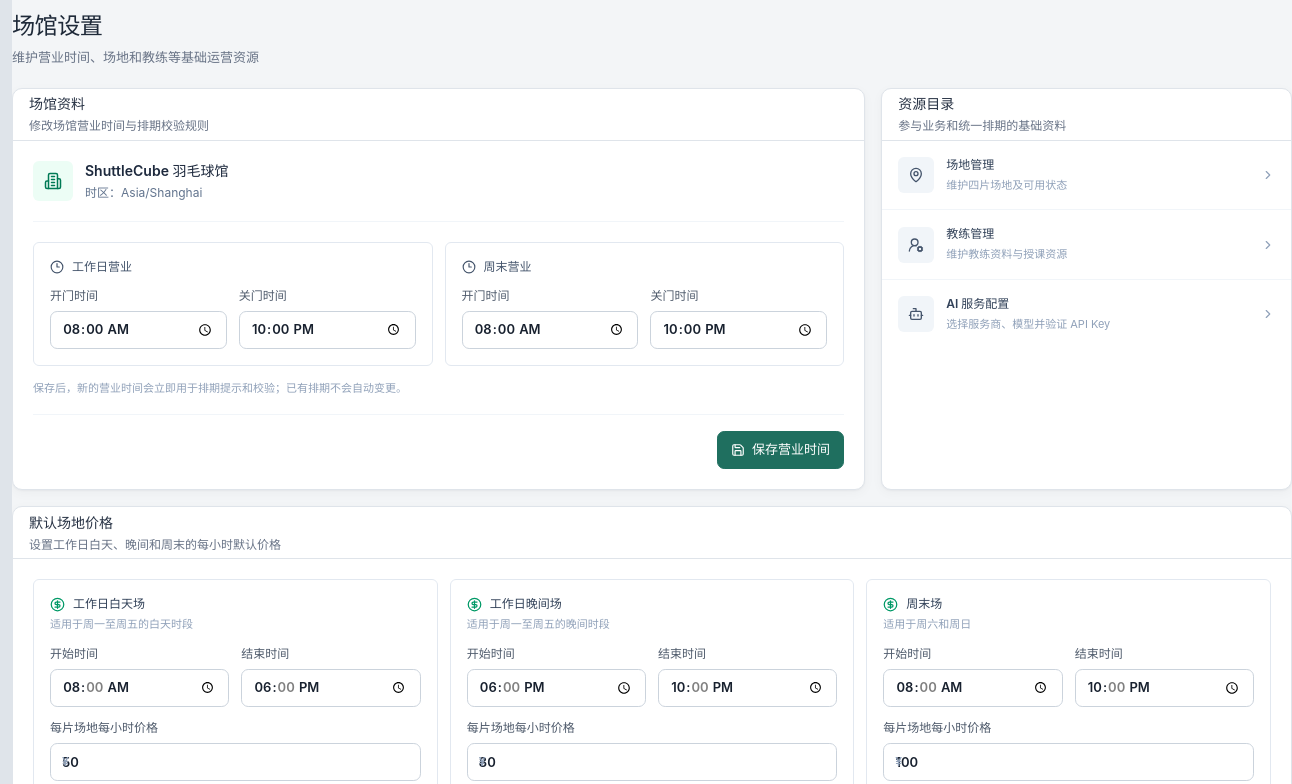
it: venue settings › edits and saves the three default court price periods
Expected: the number field showing "50" below "适用于周一至周五的白天时段" is shown, [50, 744, 421, 782]
Replace the text in the time field named "工作日白天场结束时间" with "19:00" at (331, 688), box [241, 669, 421, 707]
(page scrolled)
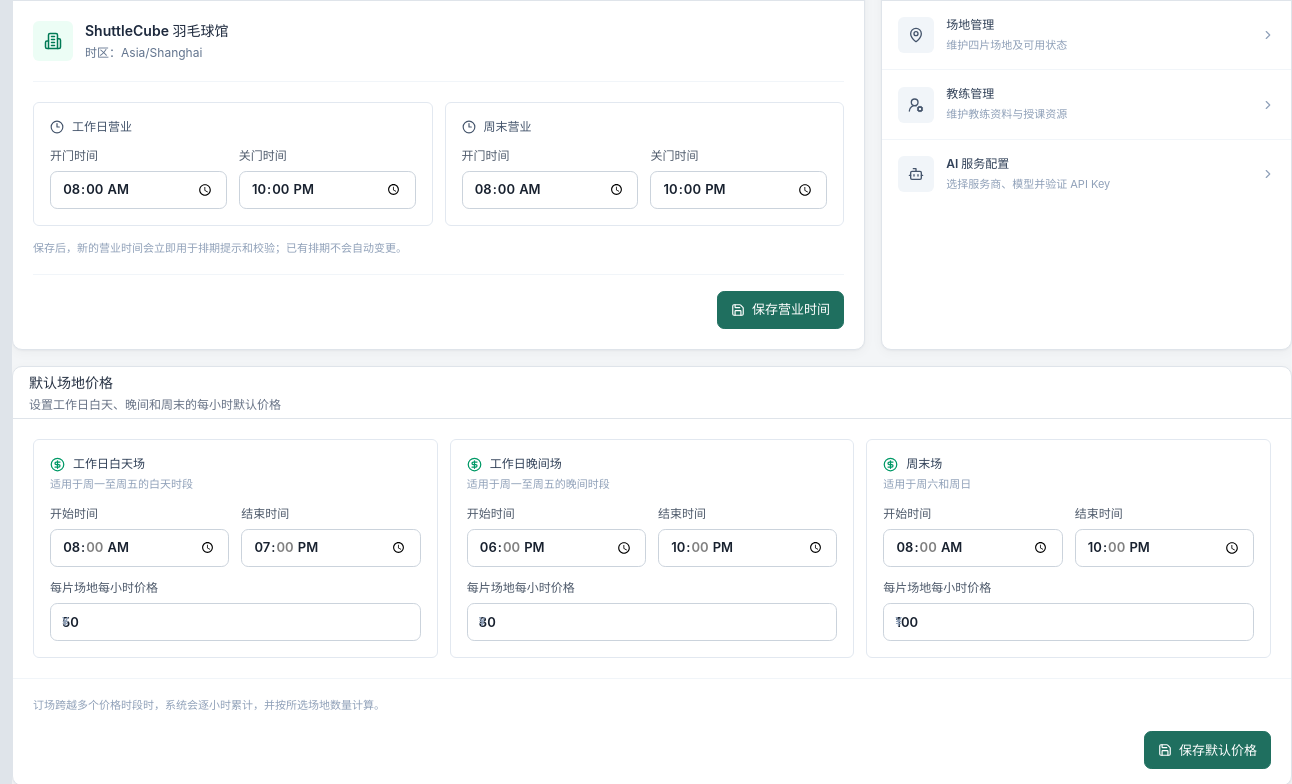
Click the button "保存默认价格".
click(1207, 750)  # box [1144, 732, 1271, 770]
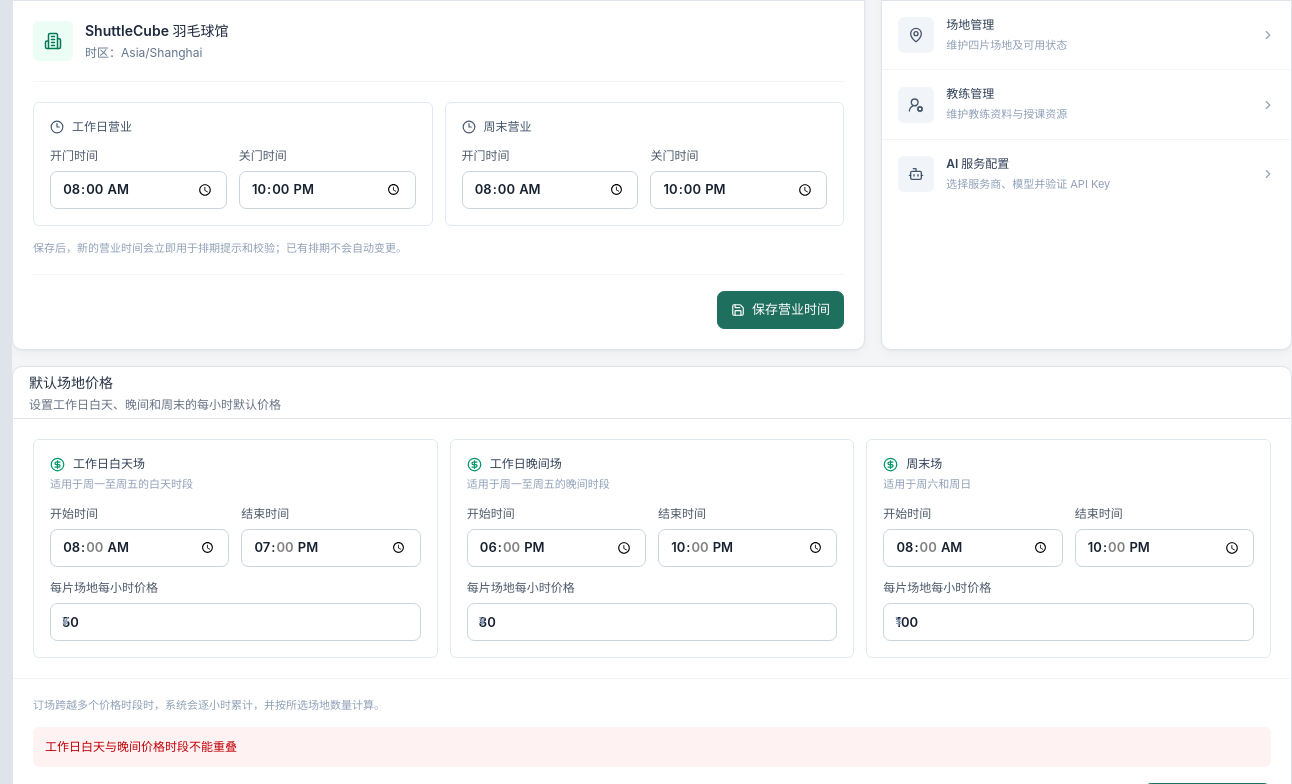
Now the message reads "工作日白天与晚间价格时段不能重叠", box [45, 740, 237, 754]
Replace the text in the time field named "工作日白天场结束时间" with "18:00" at (331, 548), box [241, 529, 421, 567]
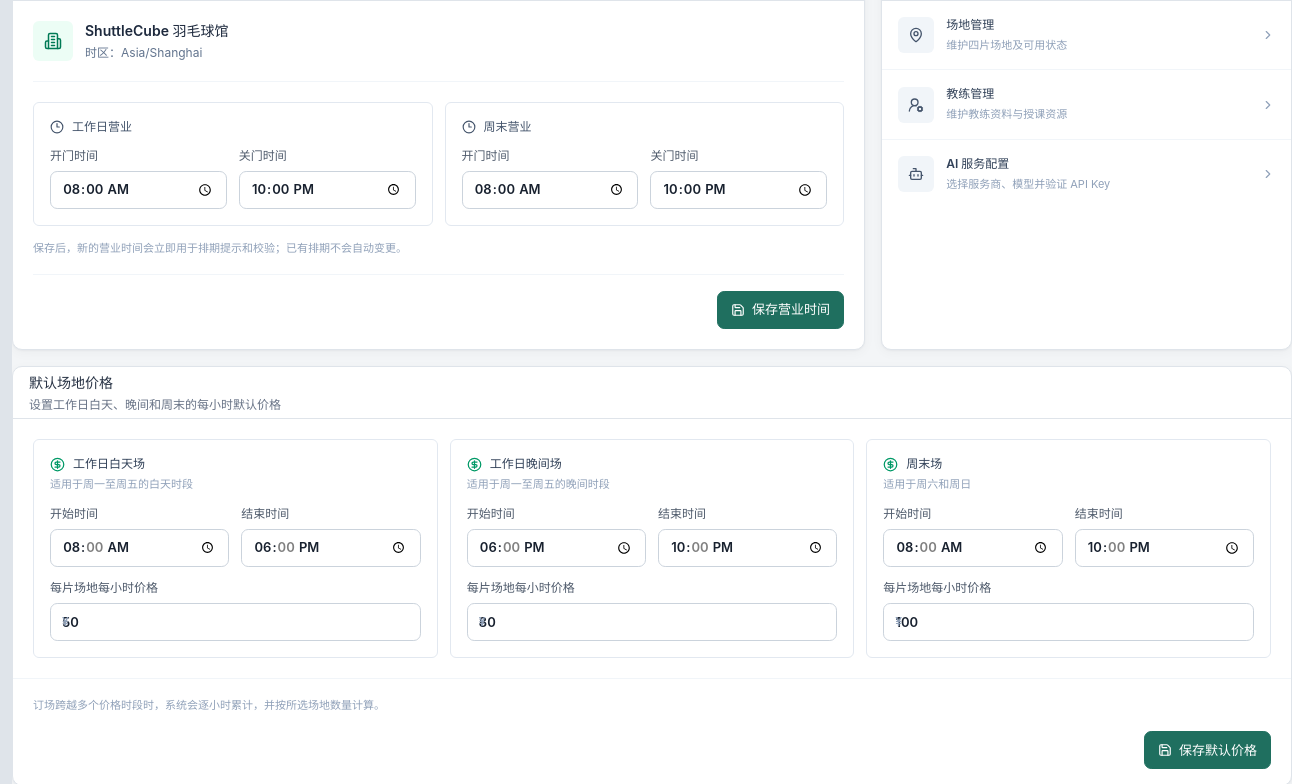
Replace the text in the number field named "工作日晚间场每小时价格" with "90" at (652, 622), box [467, 604, 837, 642]
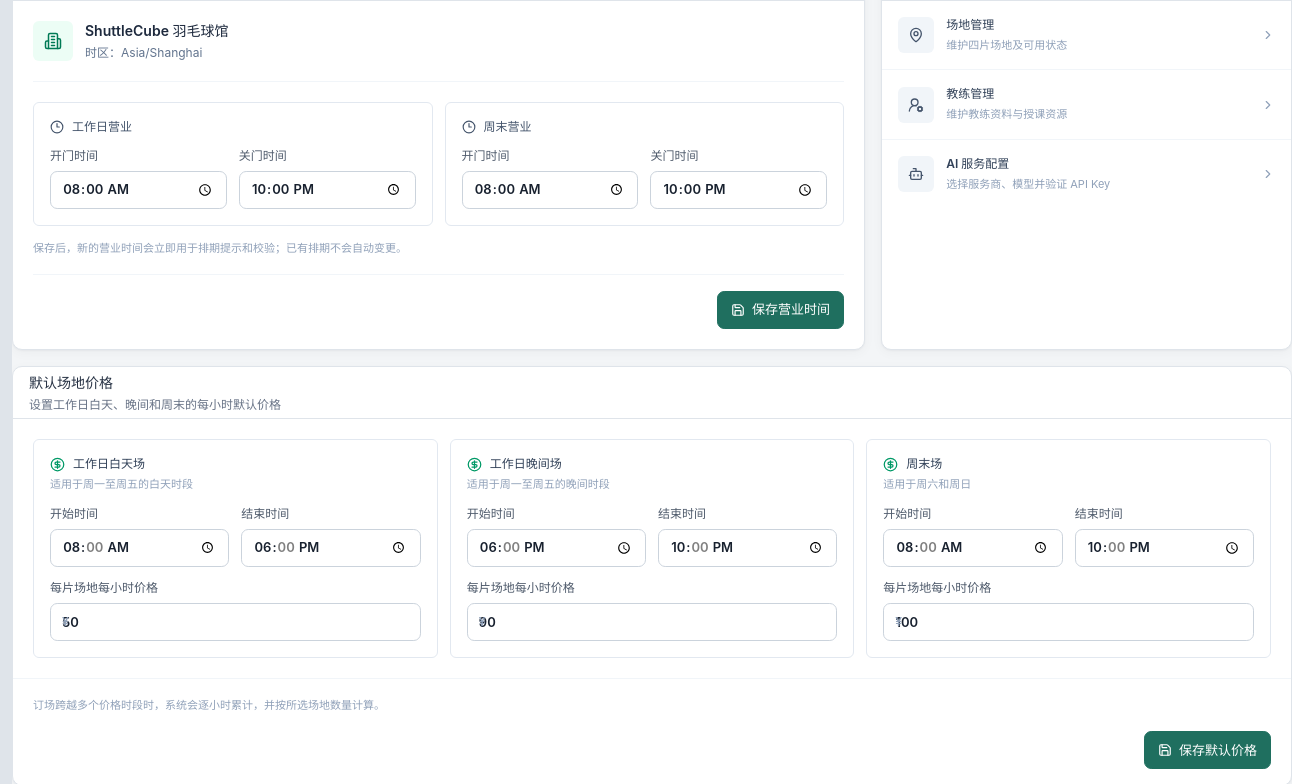
Click the button "保存默认价格".
click(1207, 750)  # box [1144, 732, 1271, 770]
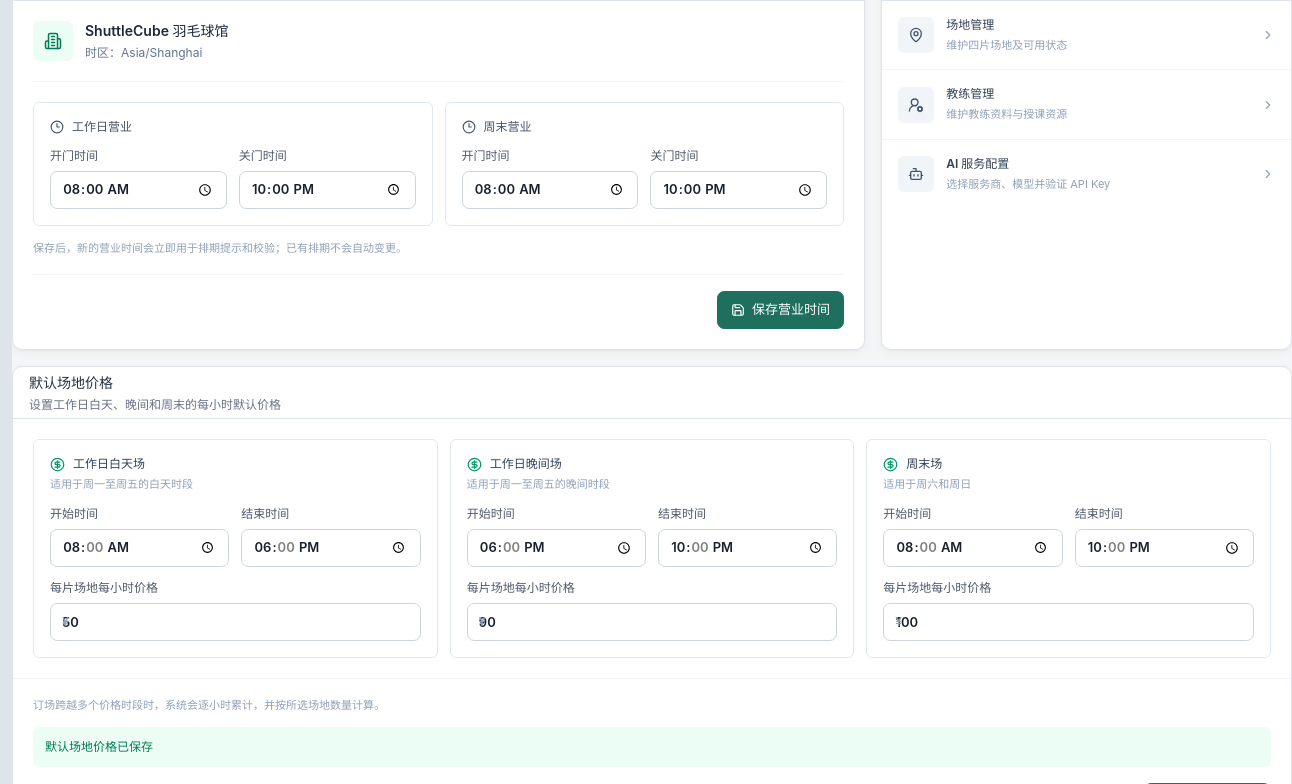
Now the message reads "默认场地价格已保存", box [45, 740, 153, 754]
